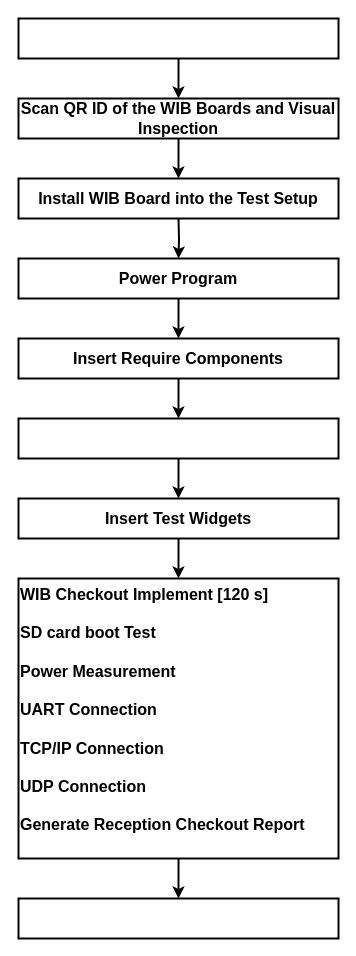
The diagram is 356 pixels wide and 956 high, and some of its shapes have lost their labels. Each missing label, with the box of its shape:
Begin: (17, 17, 339, 59)
Package Boards with ESD Bag: (17, 897, 339, 939)
Power Measure from Power Supply: (17, 417, 339, 459)
